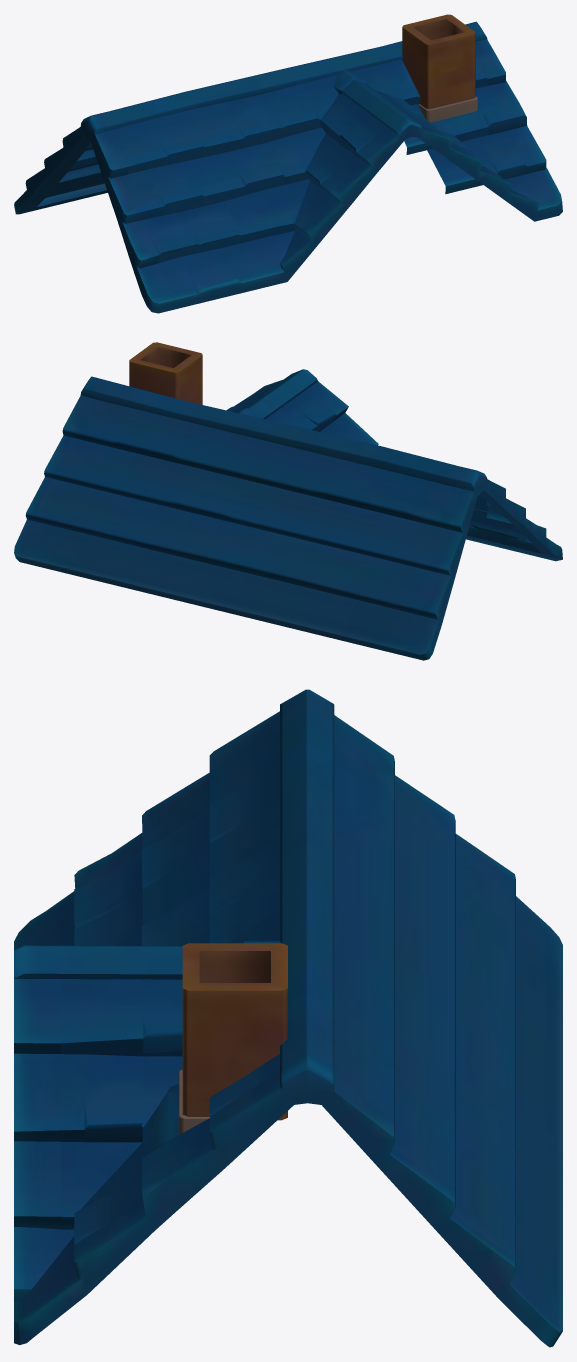
Rendered from roof-na-slate.glb.
The picture shows the model from 3 angles, top to bottom: view 1: azimuth 30°, elevation 25°; view 2: azimuth 150°, elevation 25°; view 3: azimuth 270°, elevation 25°; orthographic projection. The views are drawn at different scales.
Size of the model in its own units: 40.02 by 14.81 by 23.26.
1 material, 1 textured.
